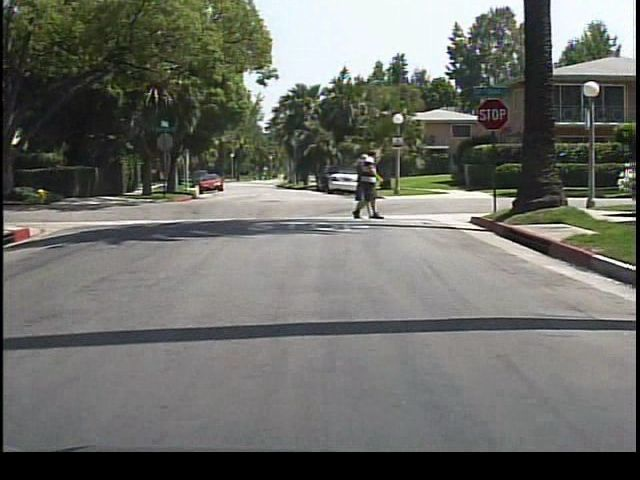person: (349, 147, 384, 221)
